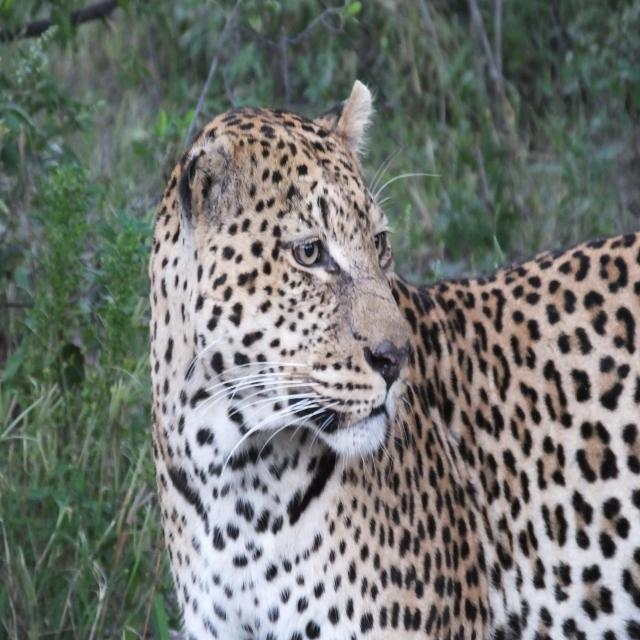Leopard: (126, 96, 640, 633)
